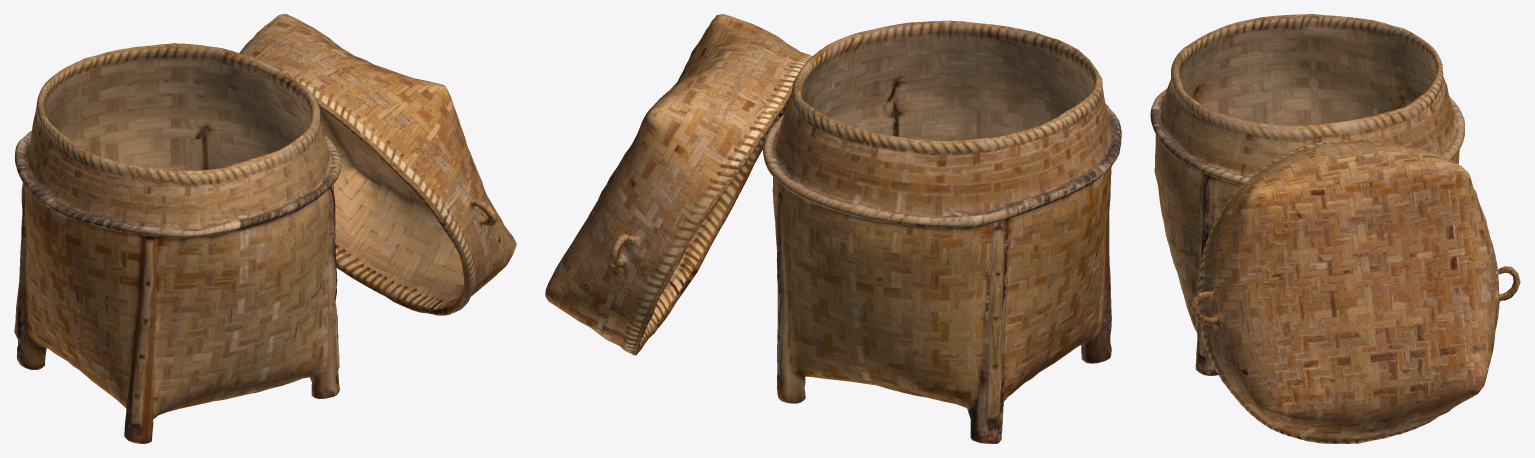
File: basket.glb
3 views of the same model, side by side, from view 1: azimuth 30°, elevation 25°; view 2: azimuth 150°, elevation 25°; view 3: azimuth 270°, elevation 25° (orthographic). The views are drawn at different scales.
Parts seen in each view (by area): view 1: wicker_basket_02_base, wicker_basket_02_lid; view 2: wicker_basket_02_base, wicker_basket_02_lid; view 3: wicker_basket_02_lid, wicker_basket_02_base.
Boxes of the visible parts, left/top/right/bottom form: wicker_basket_02_base: left=14, top=43, right=341, bottom=443; wicker_basket_02_lid: left=239, top=14, right=516, bottom=315; wicker_basket_02_base: left=763, top=20, right=1121, bottom=443; wicker_basket_02_lid: left=545, top=14, right=811, bottom=355; wicker_basket_02_lid: left=1190, top=140, right=1520, bottom=443; wicker_basket_02_base: left=1150, top=14, right=1464, bottom=375.
Bounding box in the file's own units: 0.3469 × 0.2005 × 0.2545.
1 material, 1 textured.
